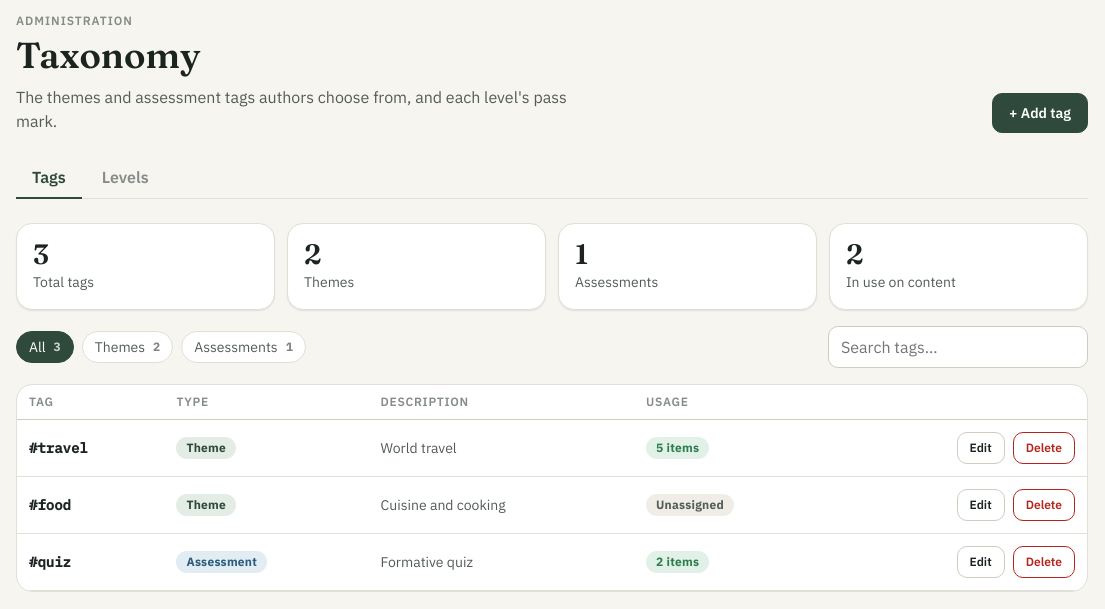
Test: TaxonomyAdminScreen › filters tags when typing into the search input
The width and height of the screenshot is (1105, 609).
Type "cooking" into the search field with test id "tag-search". click: (958, 347)
box: x1=828 y1=326 x2=1088 y2=368
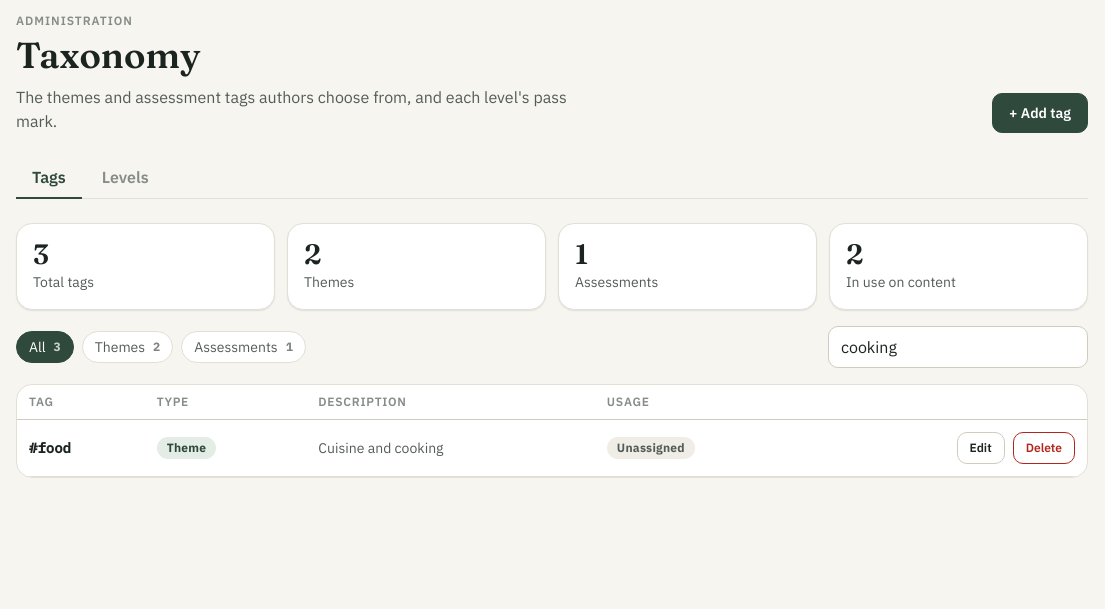
Check: the text "#food" is shown, box x1=29 y1=439 x2=71 y2=457
Check: the number of rows with test id "tag-row" is 1, box x1=17 y1=420 x2=1087 y2=477
Check: the text "#travel" is gone
